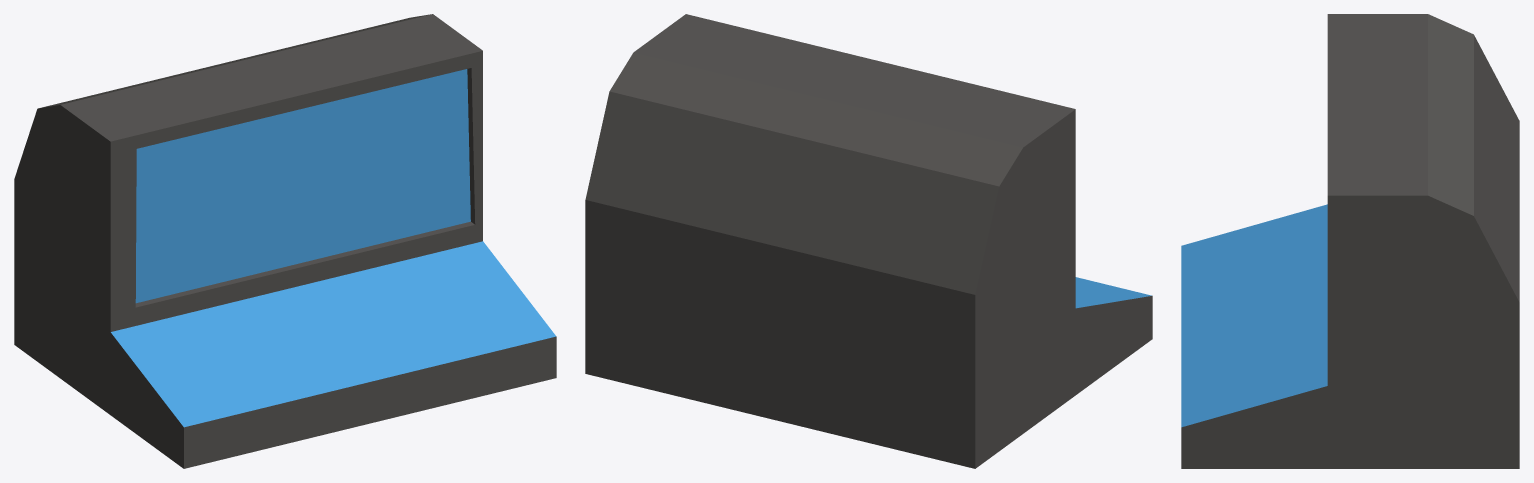
The model's file is compluter.fbx.
3 views of the same model, side by side, from view 1: azimuth 30°, elevation 25°; view 2: azimuth 150°, elevation 25°; view 3: azimuth 270°, elevation 25° (orthographic). The views are drawn at different scales.
Parts seen in each view (by area): view 1: pasted__compluter; view 2: pasted__compluter; view 3: pasted__compluter.
Boxes of the visible parts, <box> form: pasted__compluter: <box>14,14,556,468</box>; pasted__compluter: <box>585,14,1152,468</box>; pasted__compluter: <box>1181,14,1519,468</box>.
Bounding box in the file's own units: 57.87 × 40.62 × 45.58.
